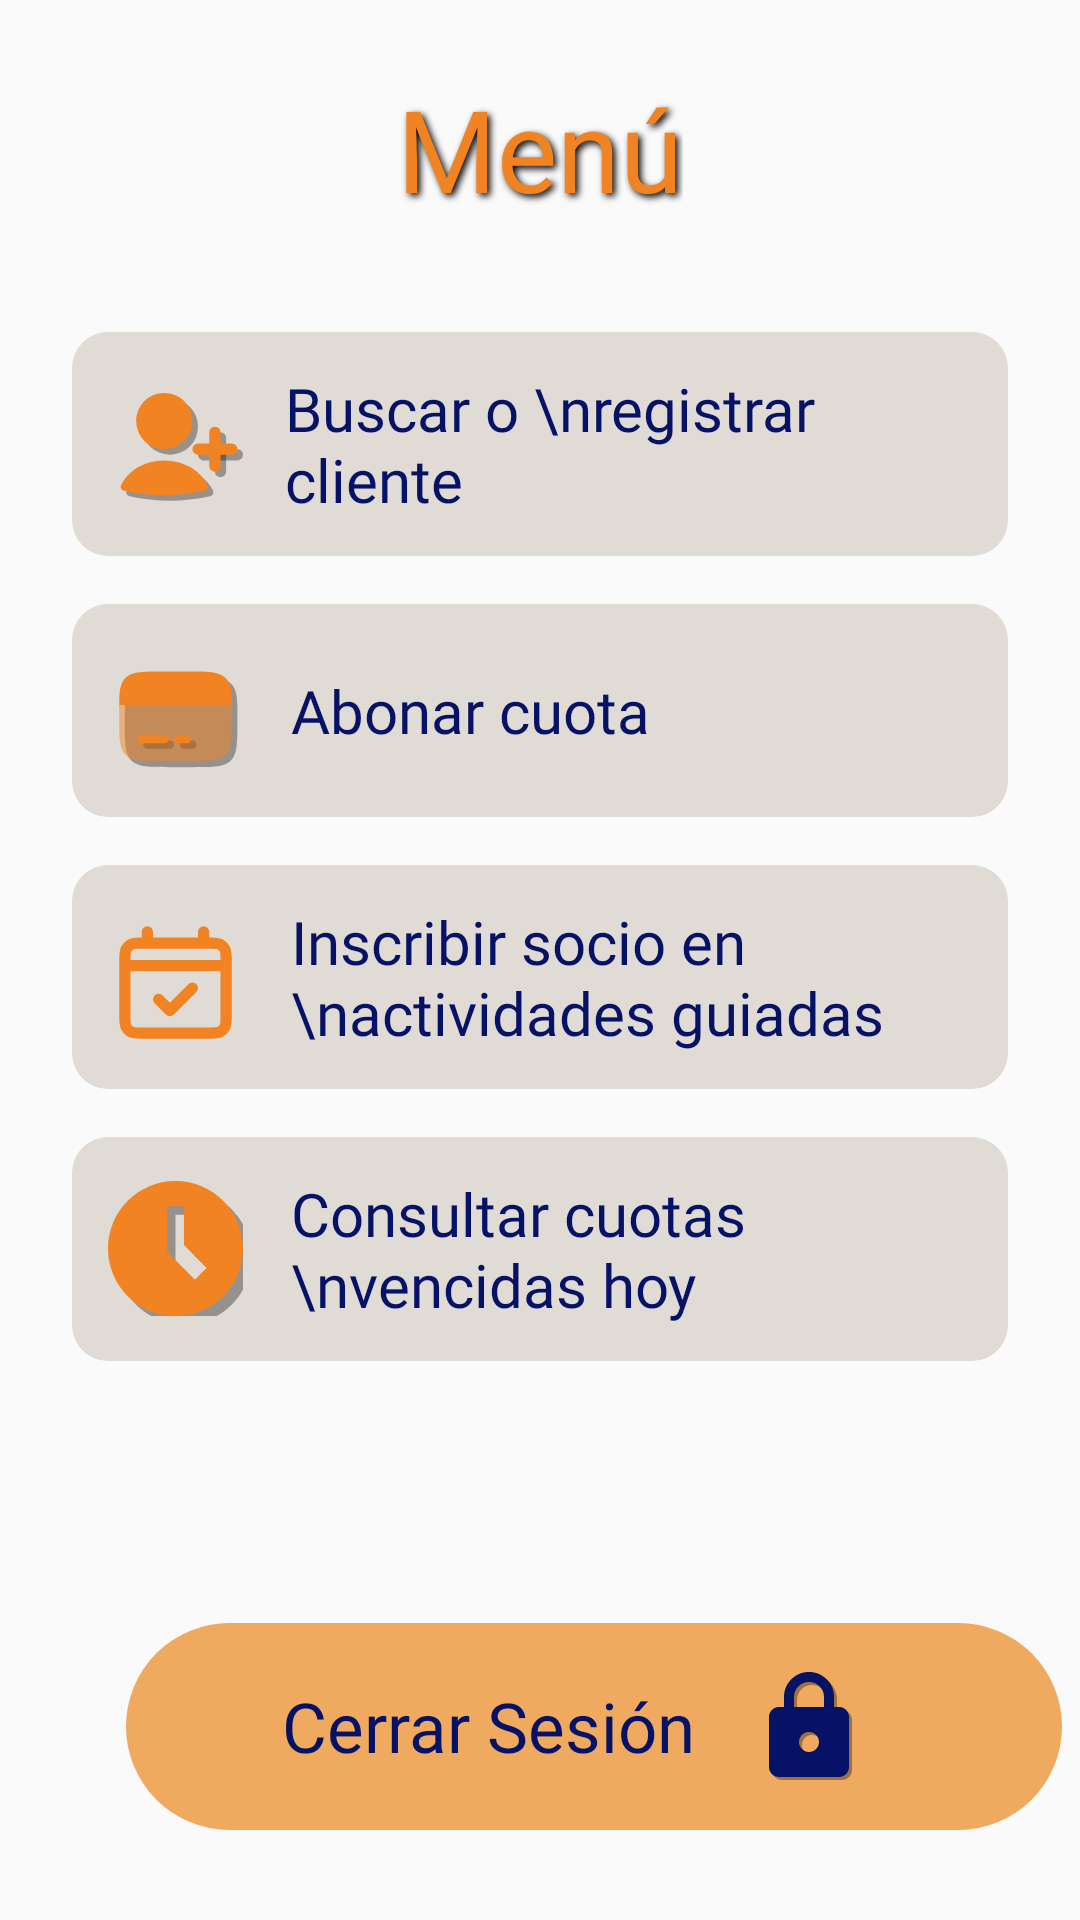

Screen size 1080*1920. Icon name, then its box in pixels as (x1, y1, x2, y2):
card: (119, 671, 238, 767)
clock: (108, 1181, 243, 1316)
date: (119, 926, 232, 1039)
lock: (769, 1672, 852, 1780)
newuser: (120, 393, 243, 501)
